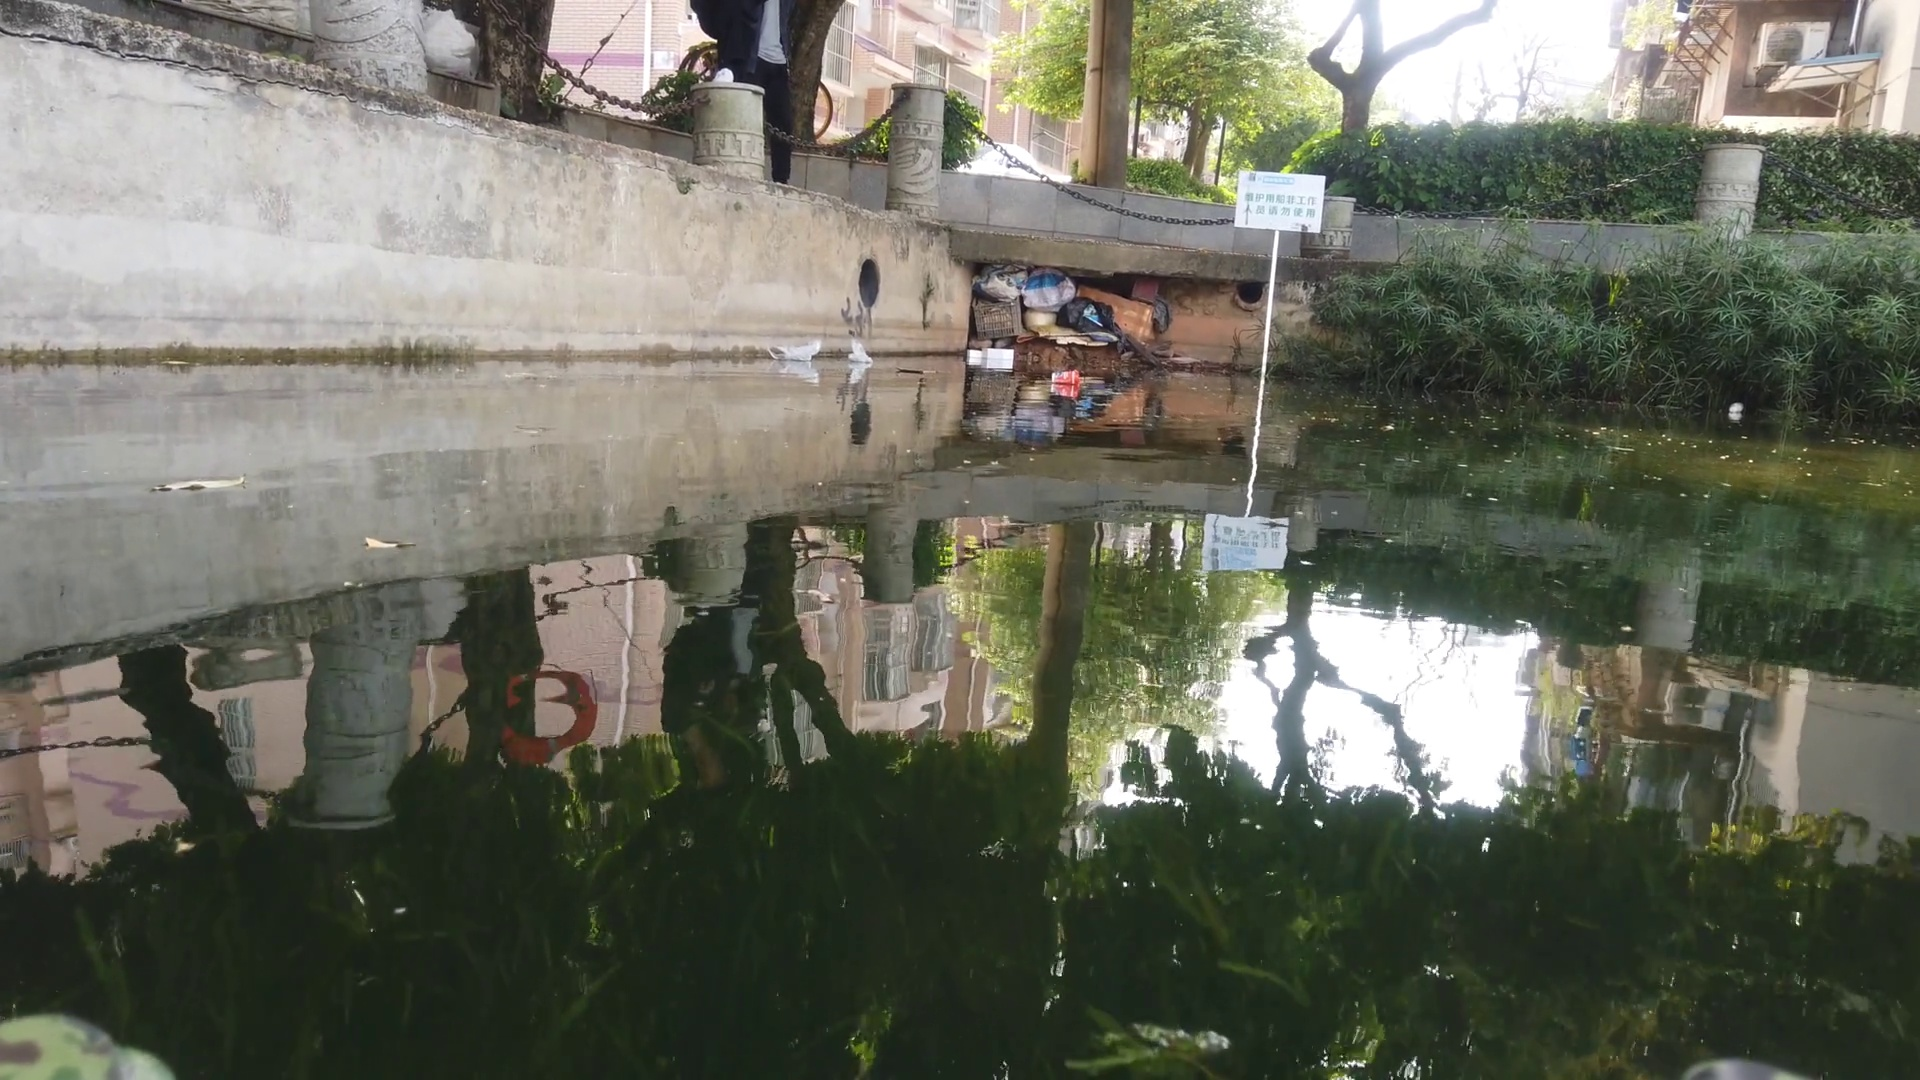bottle: (1048, 367, 1085, 386), (1724, 397, 1747, 414)
carton: (982, 347, 1014, 361), (964, 348, 982, 357)
paper: (897, 363, 938, 375)
plastic: (764, 334, 822, 360), (844, 339, 876, 361)
